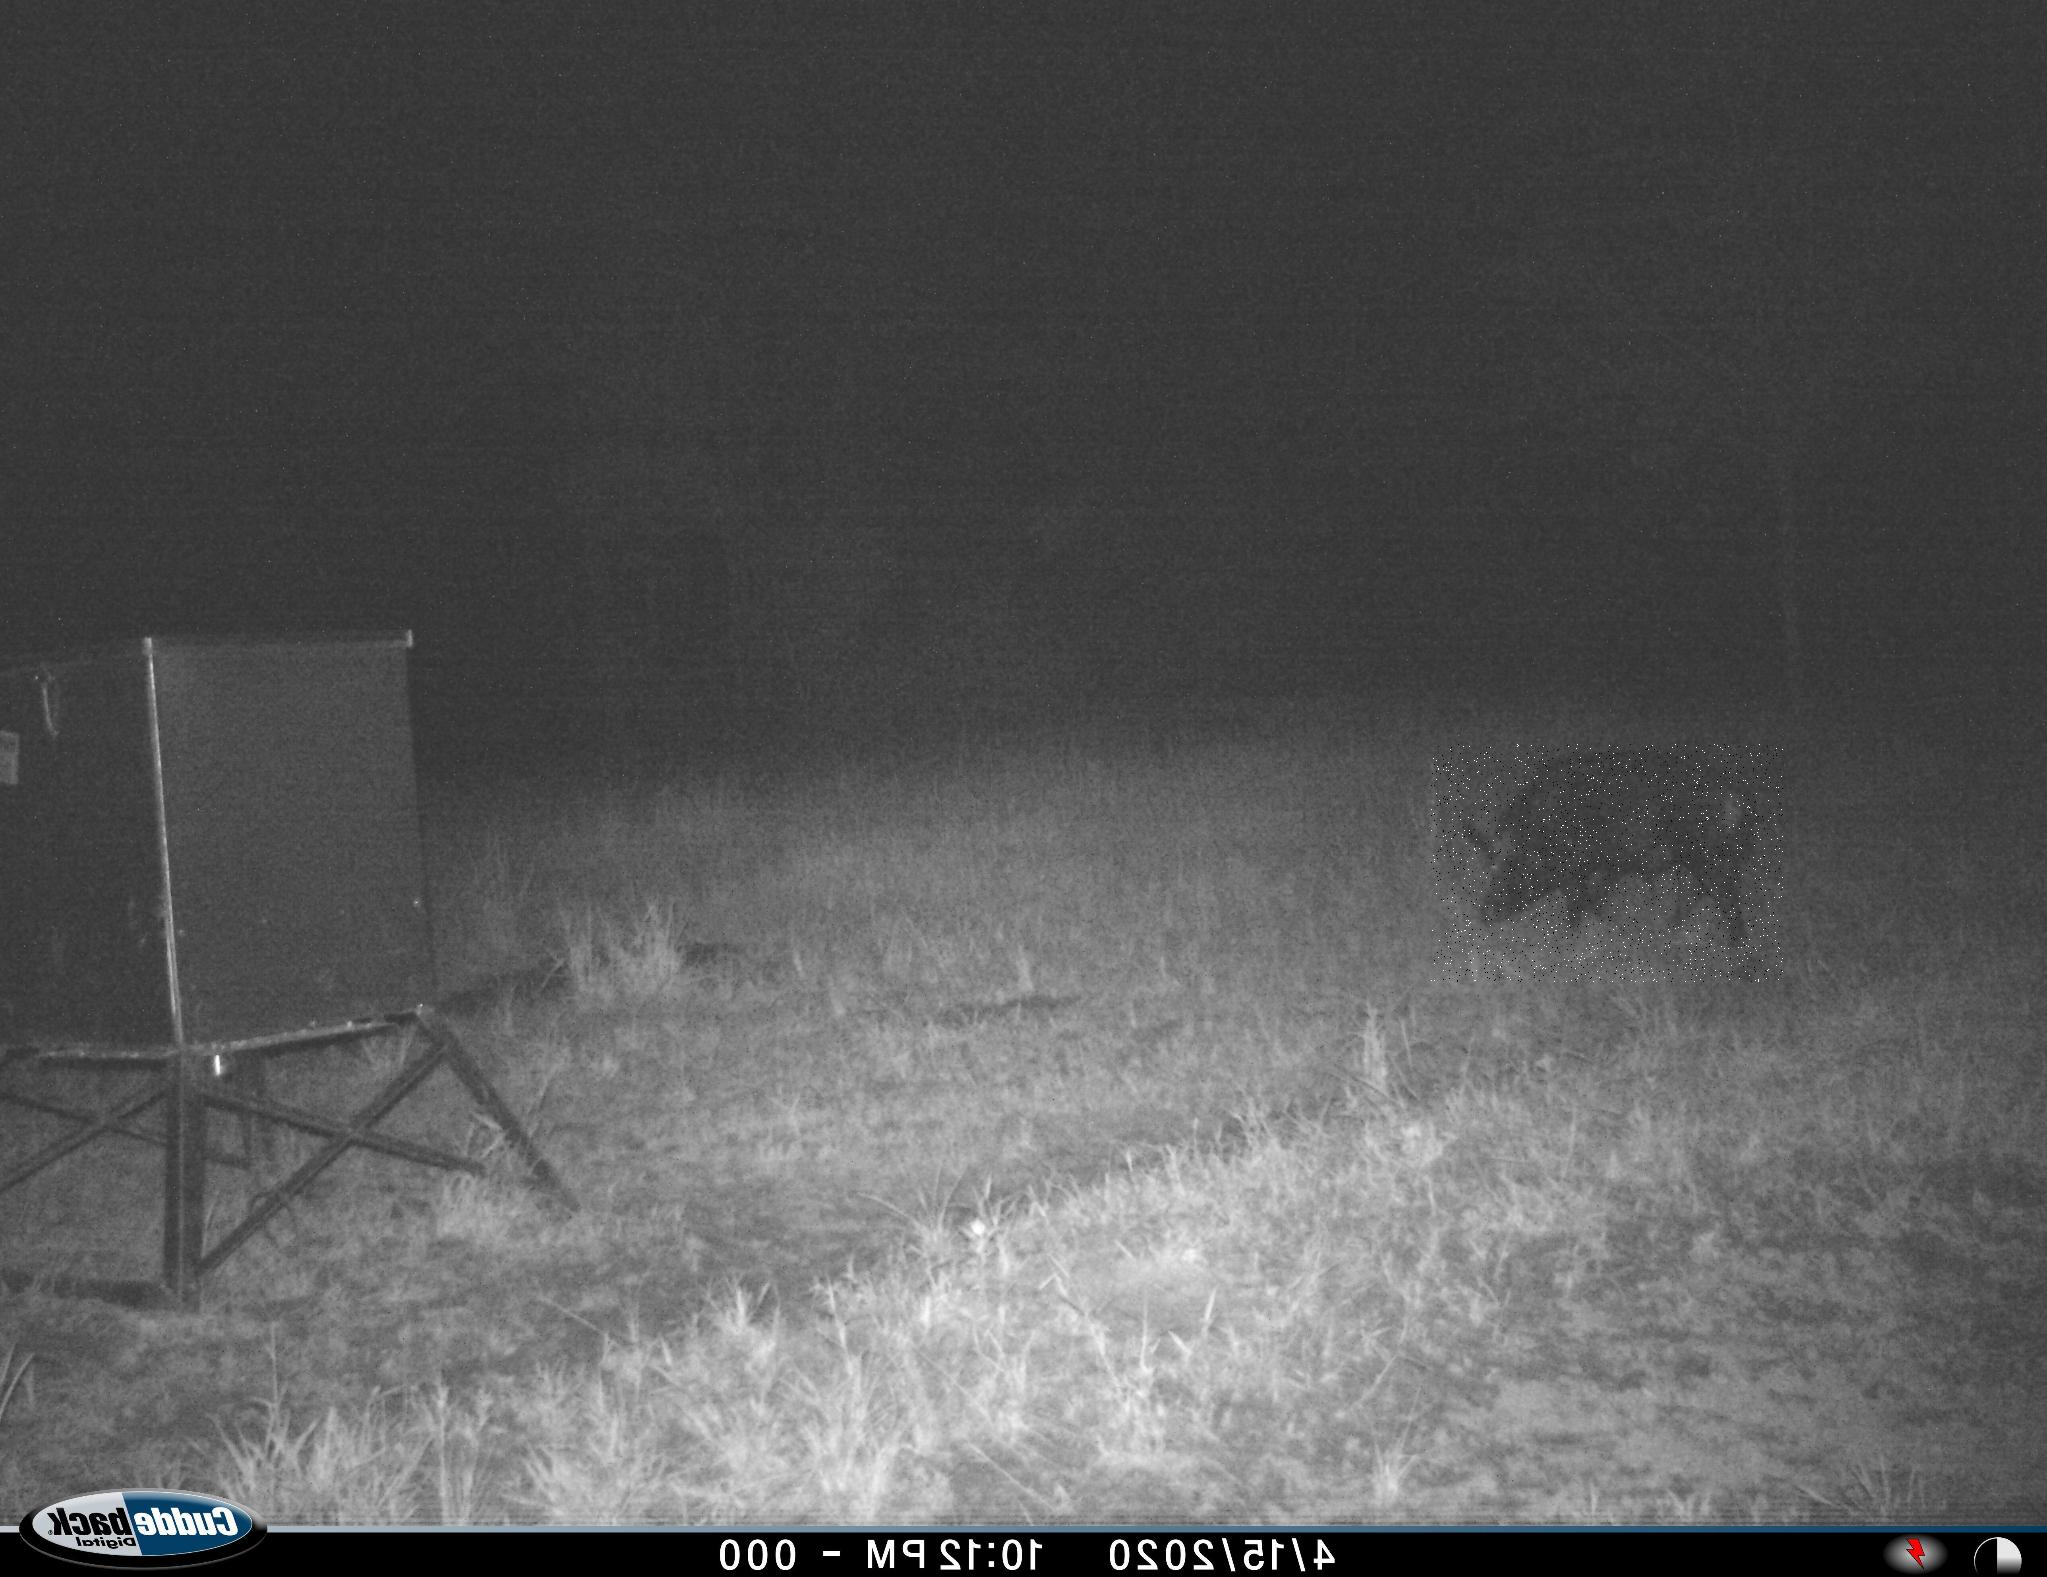Hog: (1431, 744, 1782, 982)
